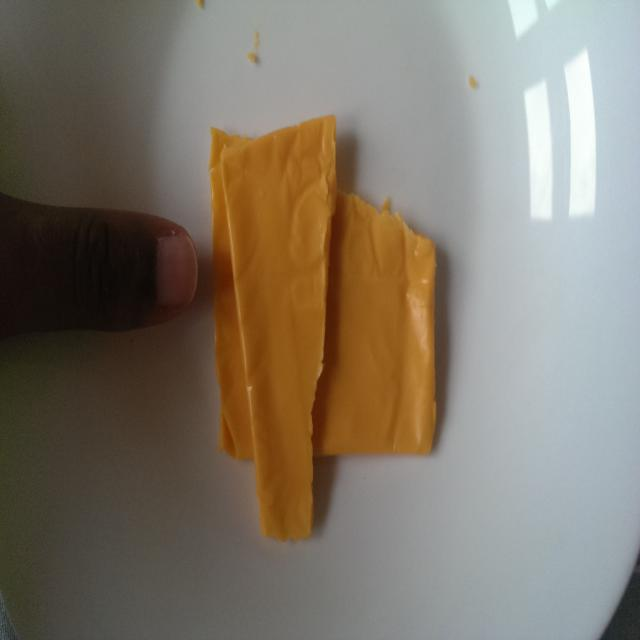cheese: (200, 111, 442, 550)
